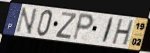0: (36, 9, 54, 38)
H: (110, 18, 135, 47)
I: (100, 16, 115, 45)
N: (15, 7, 39, 36)
P: (71, 12, 96, 42)
Z: (54, 11, 78, 40)
